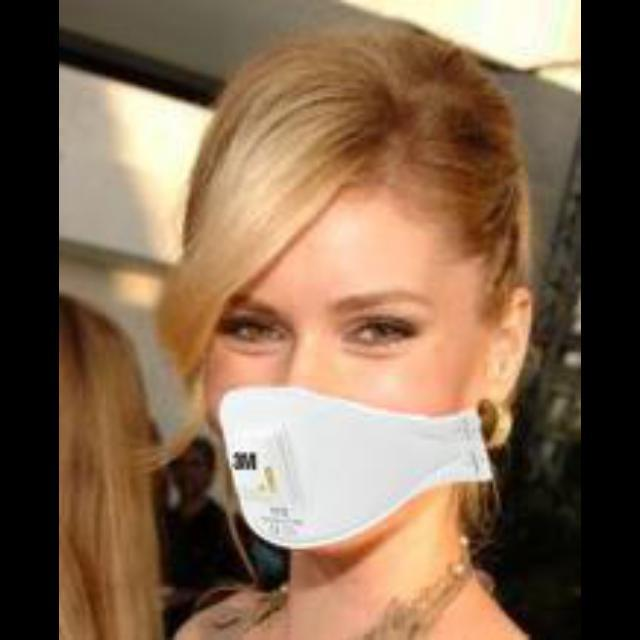suspicion: (190, 138, 492, 556)
